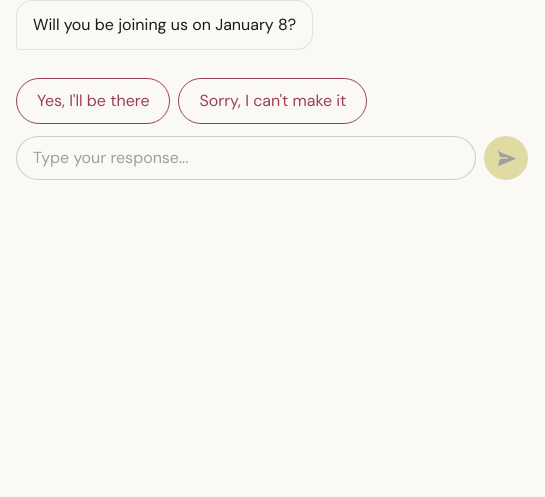
Scenario: RSVPChat parking question (ADR-0008) › asks for the plate before the contact questions
Click the button "Yes, I'll be there": coordinates (93, 101) 16,78 -> 170,124
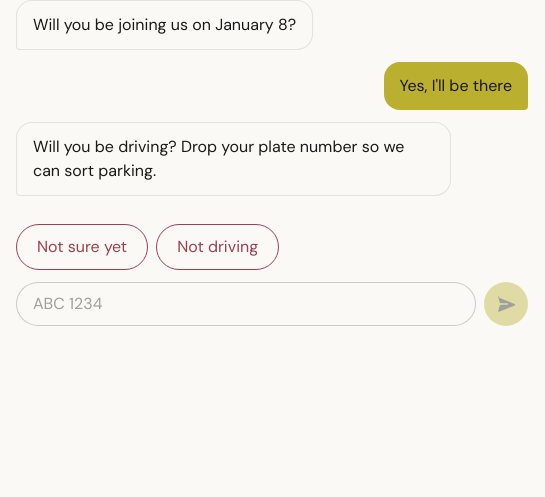
Expected: the text "emailed" is not shown
Now the text "plate number" is shown, box 33,136 -> 404,181
Click the button "Not driving": coordinates (218, 247) 156,224 -> 279,270
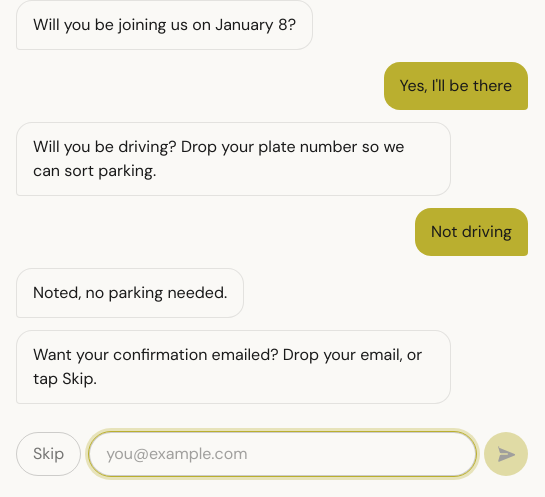
Now the text "emailed" is shown, box 33,344 -> 422,389
